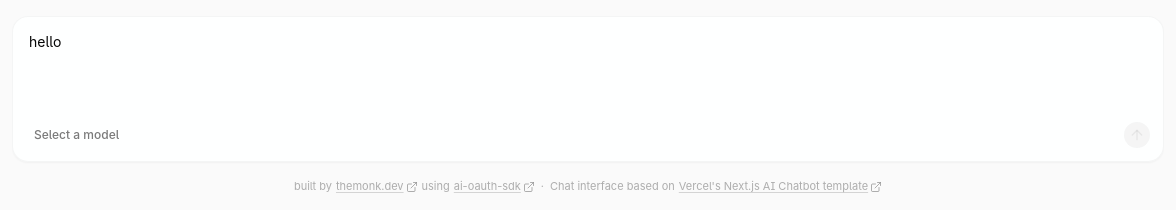
the send gate › falls back to the generic hint when nothing is selected
Focus the element with test id "send-hint-trigger": point(1137, 135) [1123,121,1151,149]
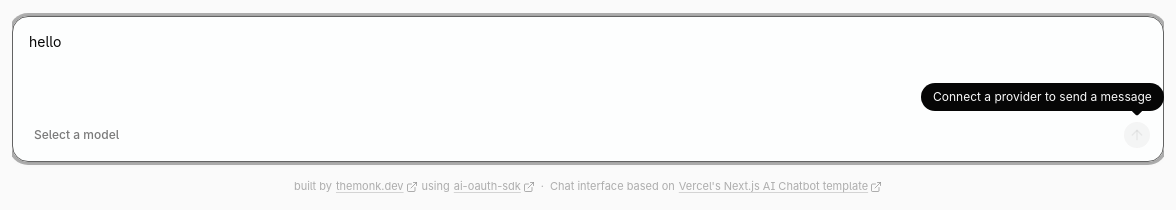
Check: the tooltip "Connect a provider to send a message" is shown, box [921,83,1164,111]
